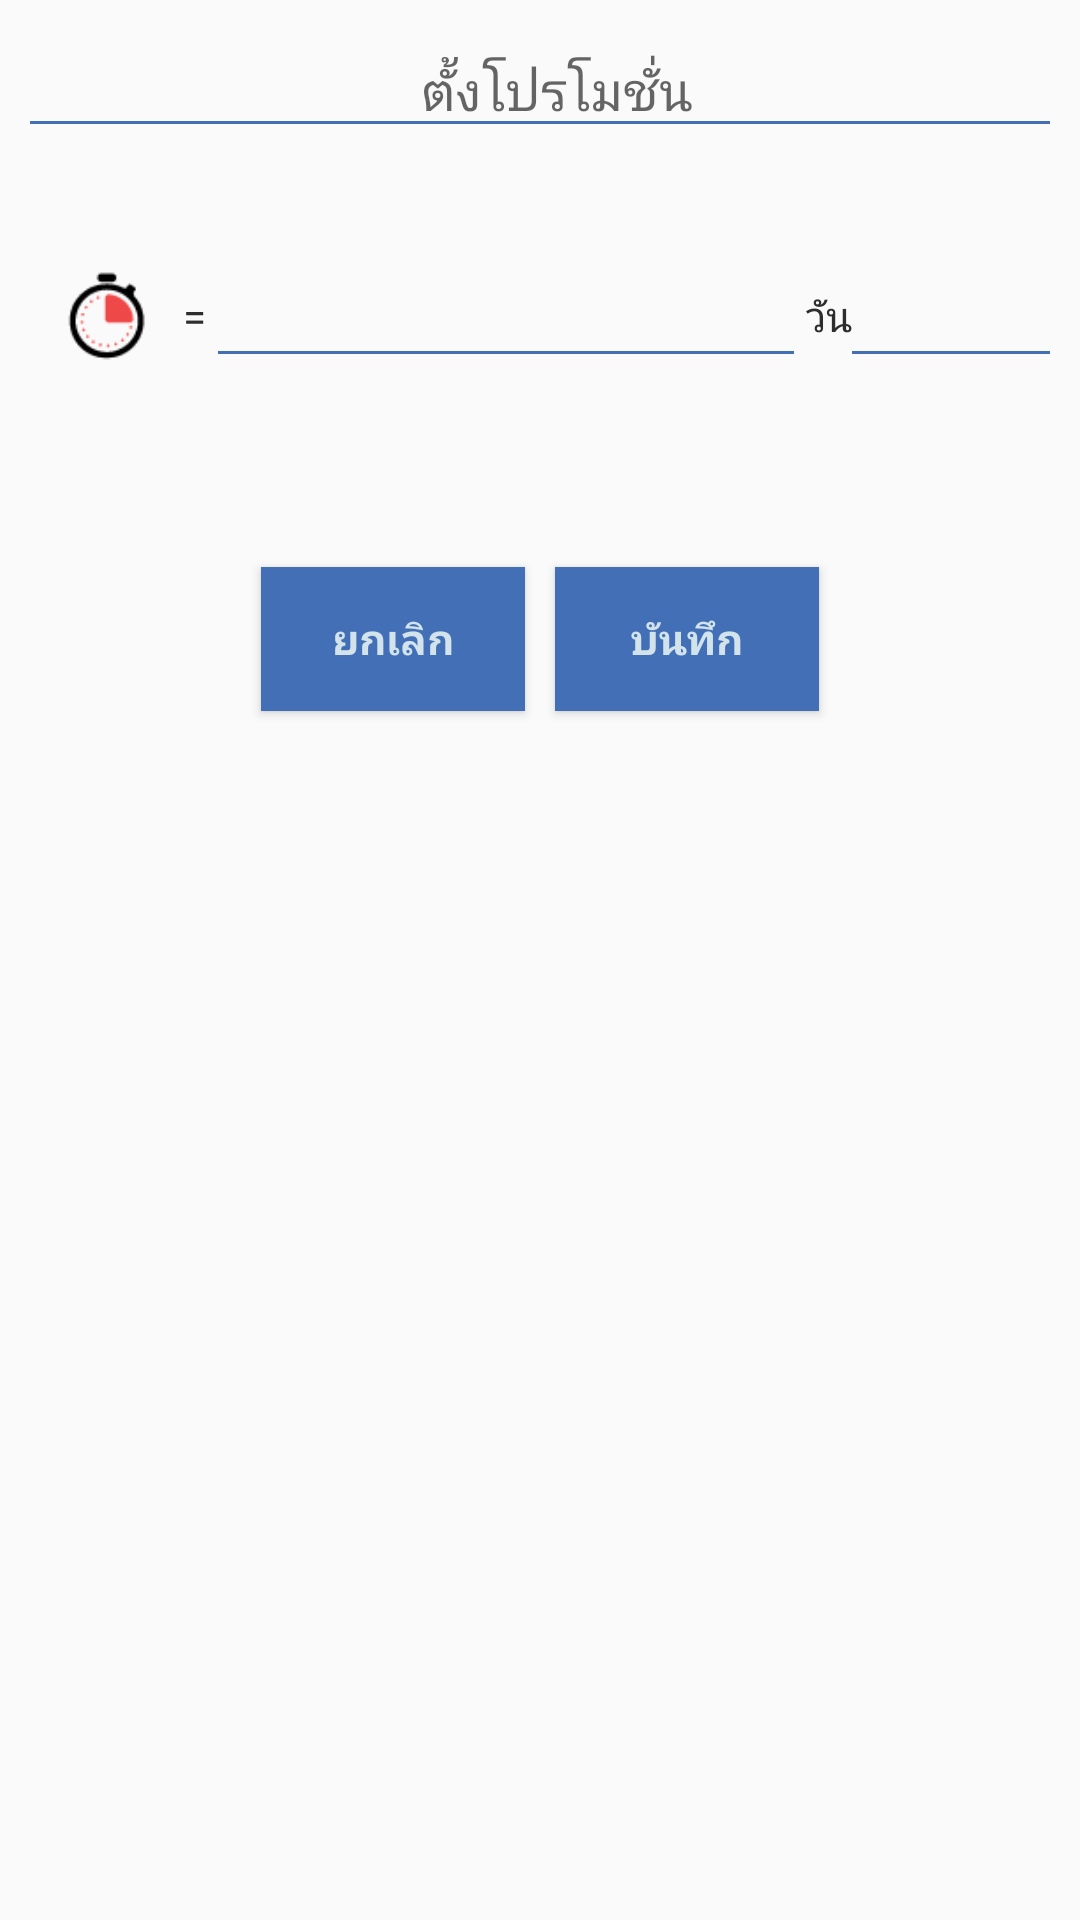

Where to tap for icons on this 1080*1920 app screen, as (x=x, y=y):
countdown: (x=106, y=315)
